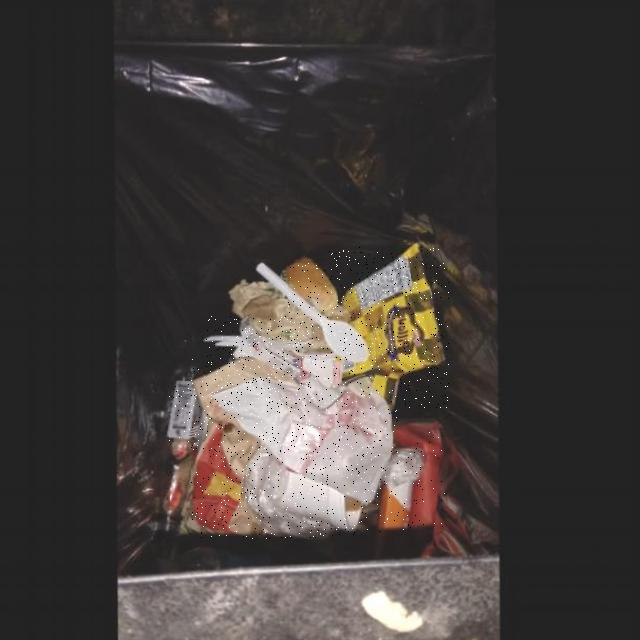biowaste: (289, 261, 346, 321)
paper: (218, 380, 398, 506), (191, 359, 300, 538), (206, 316, 348, 388), (399, 426, 446, 530), (170, 383, 207, 441), (380, 483, 417, 532)
plastic: (246, 449, 336, 539), (387, 451, 428, 493)
styrofoam: (287, 475, 368, 535)
wrapper: (328, 247, 449, 408)
